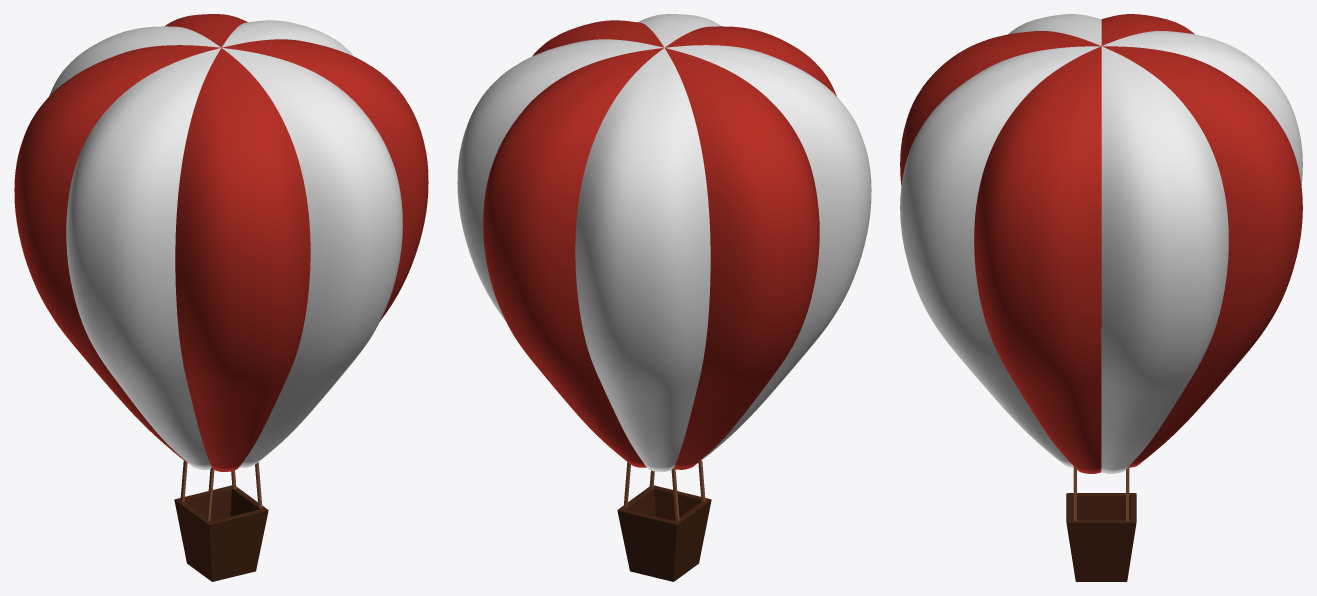
File: hotairballoon.fbx
3 views of the same model, side by side, from view 1: azimuth 30°, elevation 25°; view 2: azimuth 150°, elevation 25°; view 3: azimuth 270°, elevation 25° (orthographic).
Parts seen in each view (by area): view 1: Basket.003; view 2: Basket.003; view 3: Basket.003.
Boxes of the visible parts, x1=… form: Basket.003: x1=14, y1=14, x2=428, y2=581; Basket.003: x1=457, y1=14, x2=871, y2=581; Basket.003: x1=900, y1=14, x2=1302, y2=581.
Bounding box in the file's own units: 189 × 273 × 189.
